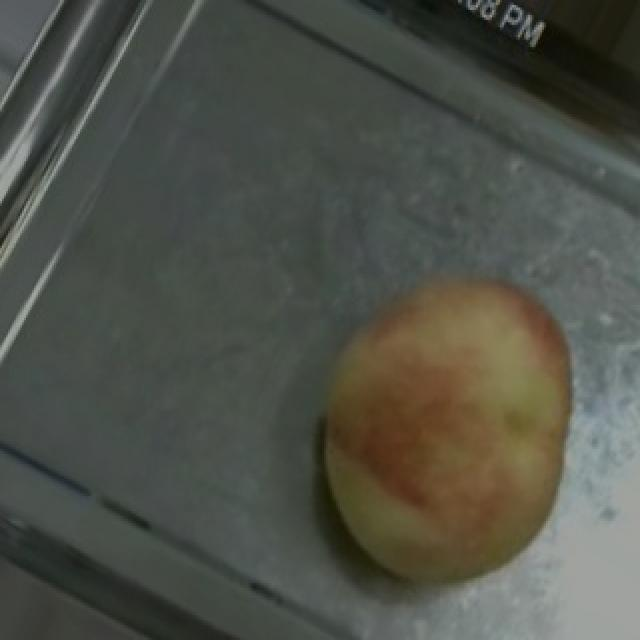Fruit: (268, 278, 592, 635)
